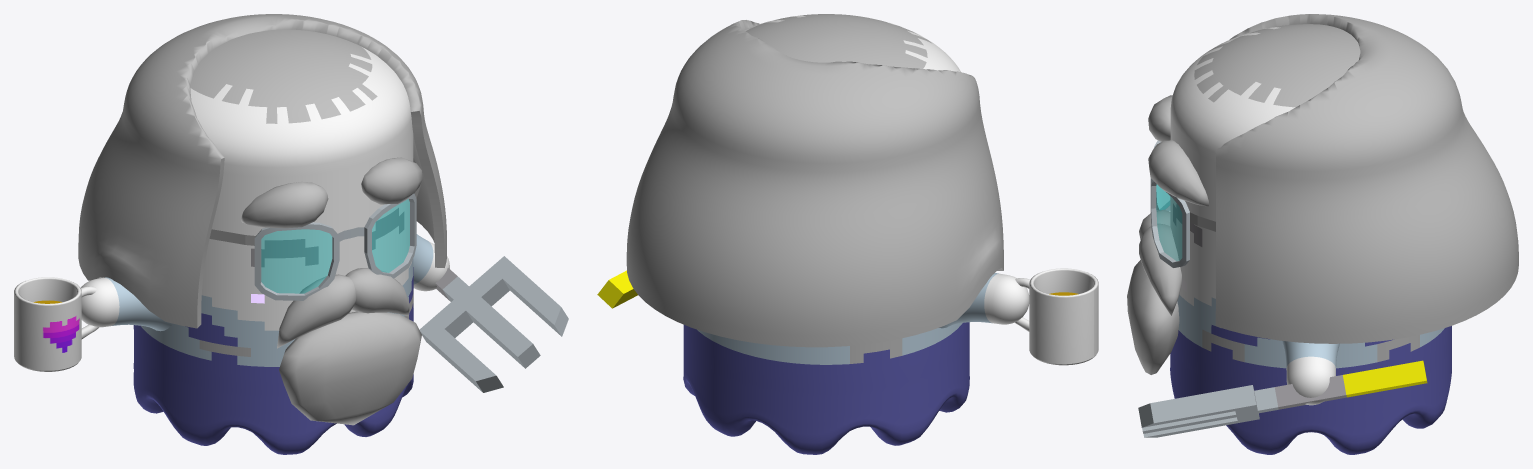
Rendered from Gotchi_Farmer_Alf.fbx.
3 views of the same model, side by side, from view 1: azimuth 30°, elevation 25°; view 2: azimuth 150°, elevation 25°; view 3: azimuth 270°, elevation 25° (orthographic). The views are drawn at different scales.
Visible parts, largest first — view 1: Gotchi_Farmer_Alf, hair, beardy, glasses, pitchfork, mug_01, brow2, stache2, arm2, brow1, stache1, arm1; view 2: hair, Gotchi_Farmer_Alf, mug_01, arm2, pitchfork; view 3: hair, Gotchi_Farmer_Alf, pitchfork, beardy, glasses, arm1, brow1, stache1, brow2.
Part boxes in pixels (x1,y1,x2,y2): Gotchi_Farmer_Alf: (133,29,413,454); hair: (78,14,446,328); beardy: (279,311,421,425); glasses: (209,158,420,300); pitchfork: (419,256,568,392); mug_01: (14,277,81,371); brow2: (241,181,328,228); stache2: (277,274,355,348); arm2: (81,277,172,331); brow1: (361,157,422,204); stache1: (345,268,409,316); arm1: (413,234,449,291); hair: (626,20,1003,347); Gotchi_Farmer_Alf: (683,14,969,454); mug_01: (1029,268,1098,365); arm2: (939,273,1029,328); pitchfork: (597,270,637,308); hair: (1215,14,1518,343); Gotchi_Farmer_Alf: (1170,24,1451,454); pitchfork: (1138,360,1427,437); beardy: (1127,260,1179,374); glasses: (1150,140,1215,267); arm1: (1282,341,1339,405); brow1: (1148,140,1209,206); stache1: (1139,223,1181,315); brow2: (1148,95,1172,141).
Size of the model in its own units: 1.93 by 1.39 by 1.37.
14 materials, 2 textured.
